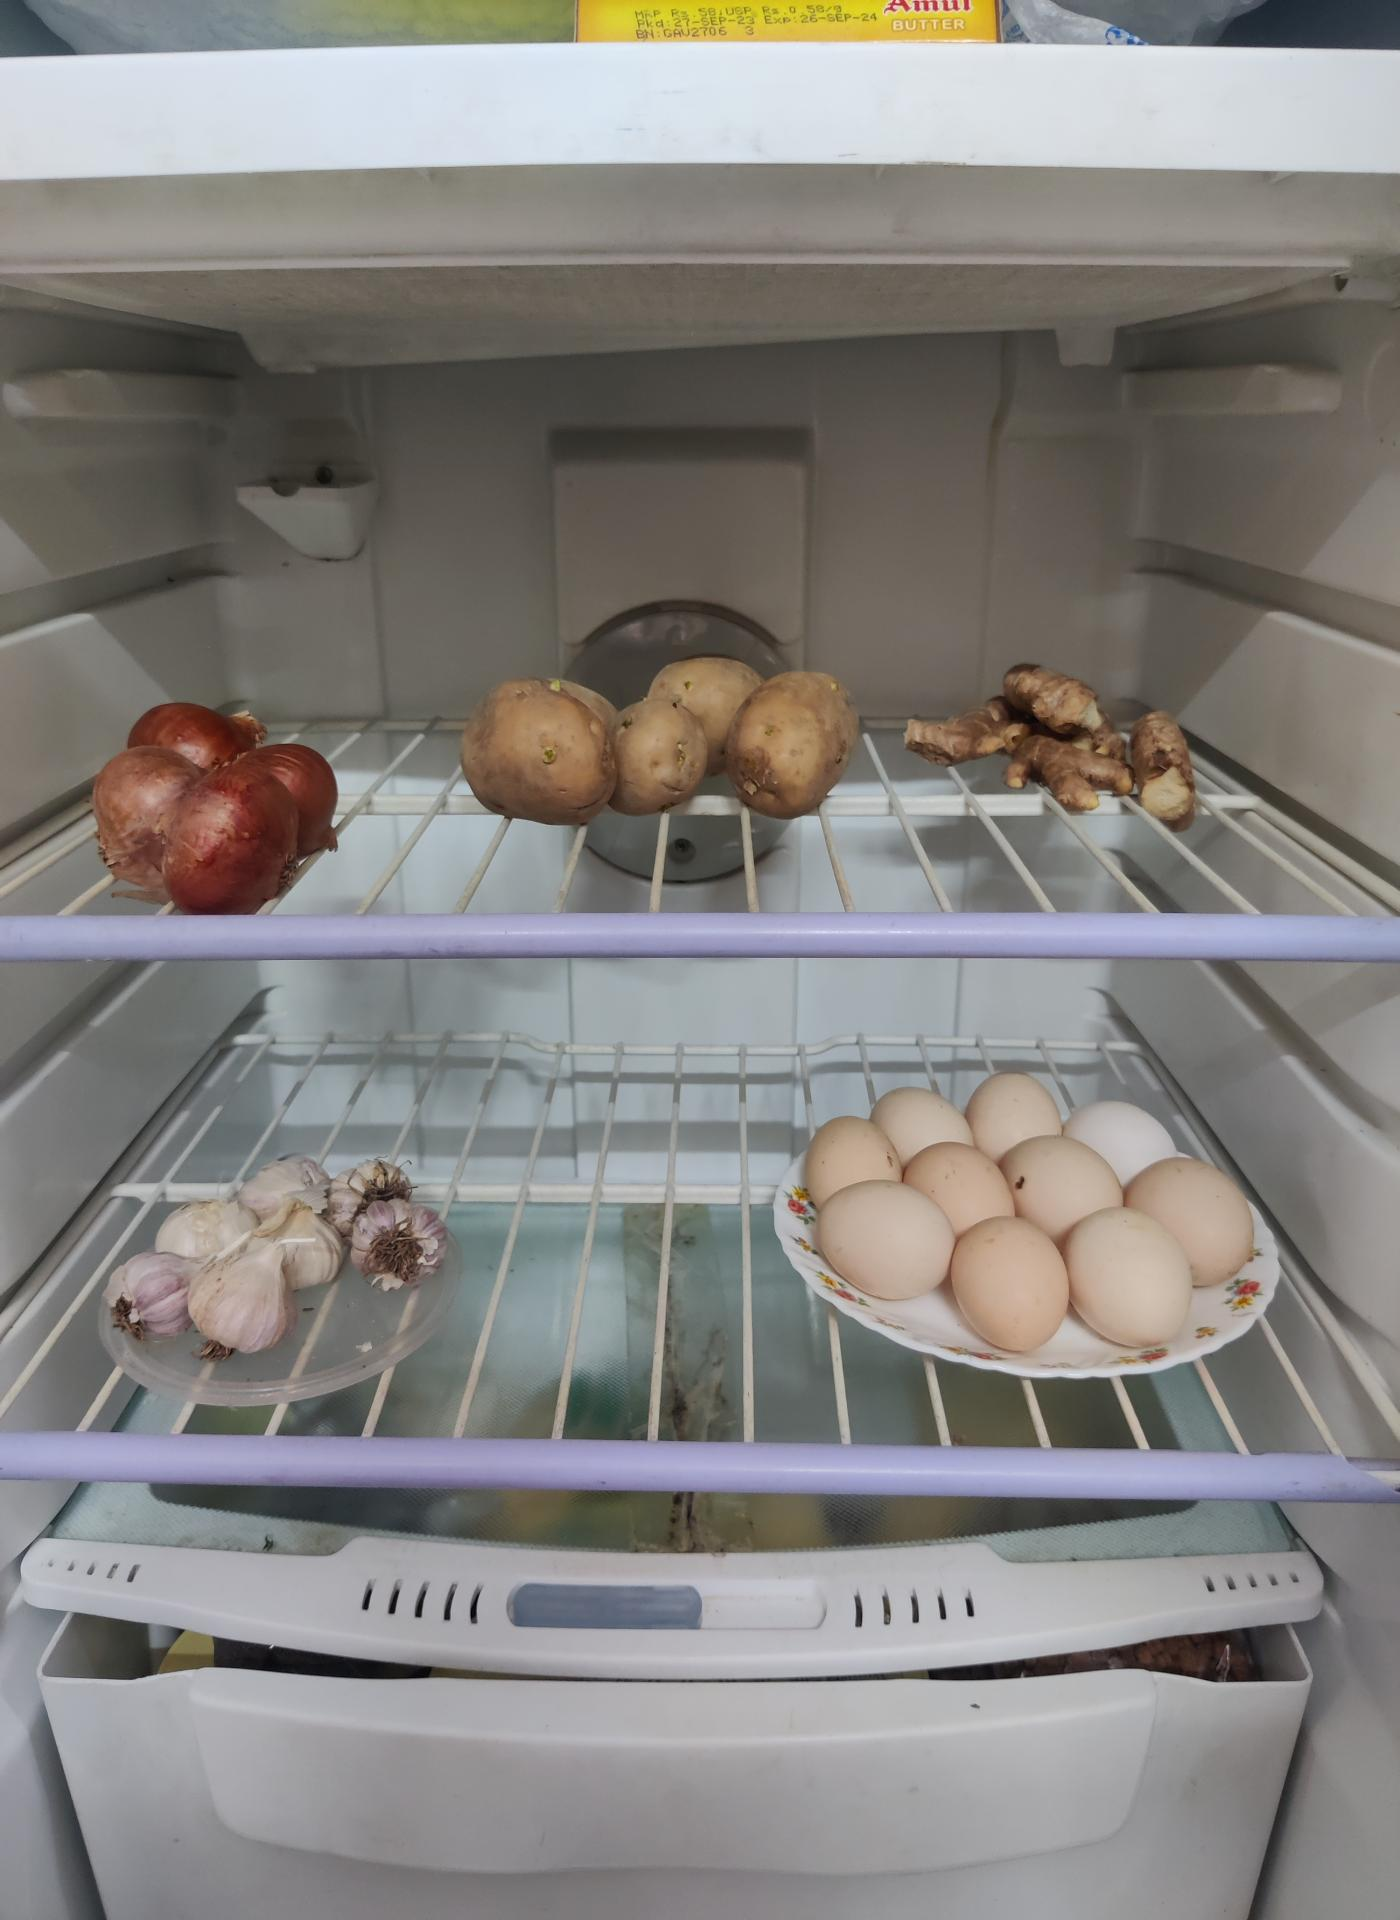egg: (792, 1071, 1255, 1359)
garlic: (106, 1164, 351, 1360)
ginger: (908, 664, 1206, 815)
onion: (93, 701, 342, 912)
potato: (458, 660, 858, 828)
